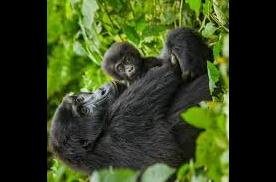goriile_montagne: (50, 21, 222, 174), (96, 40, 164, 80)
